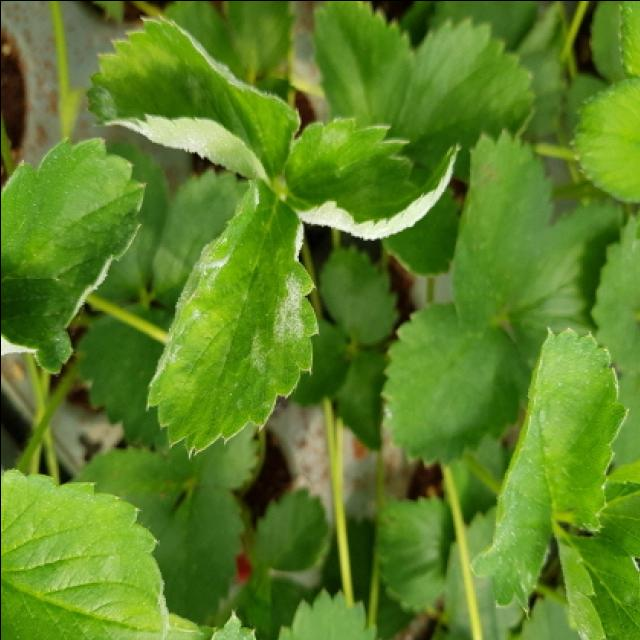Powdery Mildew Leaf: (144, 179, 319, 457), (81, 15, 298, 189), (2, 133, 147, 375), (276, 115, 460, 241)
